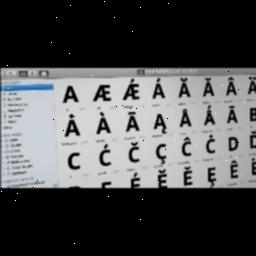a: (60, 85, 82, 111), (94, 116, 114, 138), (176, 110, 194, 128), (150, 82, 166, 102), (176, 82, 192, 100), (124, 116, 140, 134), (151, 114, 167, 132), (201, 82, 217, 98), (92, 85, 106, 103), (65, 120, 79, 138), (204, 109, 216, 127), (228, 108, 240, 126), (122, 84, 134, 100), (225, 82, 237, 96)
c: (64, 150, 84, 174), (149, 140, 169, 162), (125, 143, 143, 165), (200, 139, 220, 157), (222, 135, 240, 155), (98, 149, 114, 169), (179, 140, 195, 158)
e: (180, 170, 196, 188), (205, 168, 221, 184), (228, 164, 242, 182), (154, 175, 170, 189)
